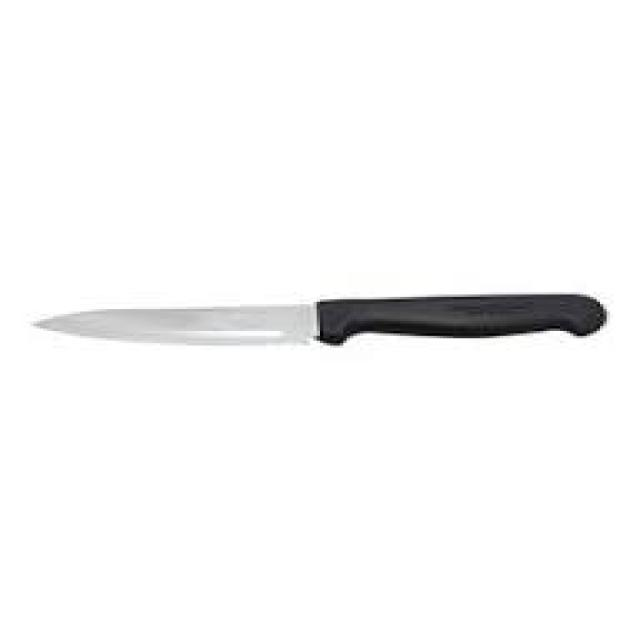Knife: (30, 290, 607, 346)
